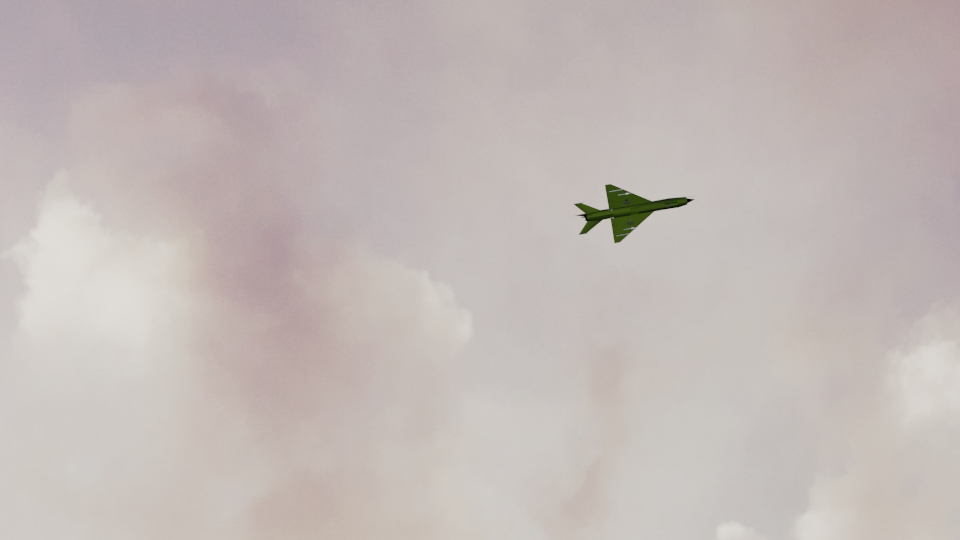plane: (573, 182, 694, 242)
